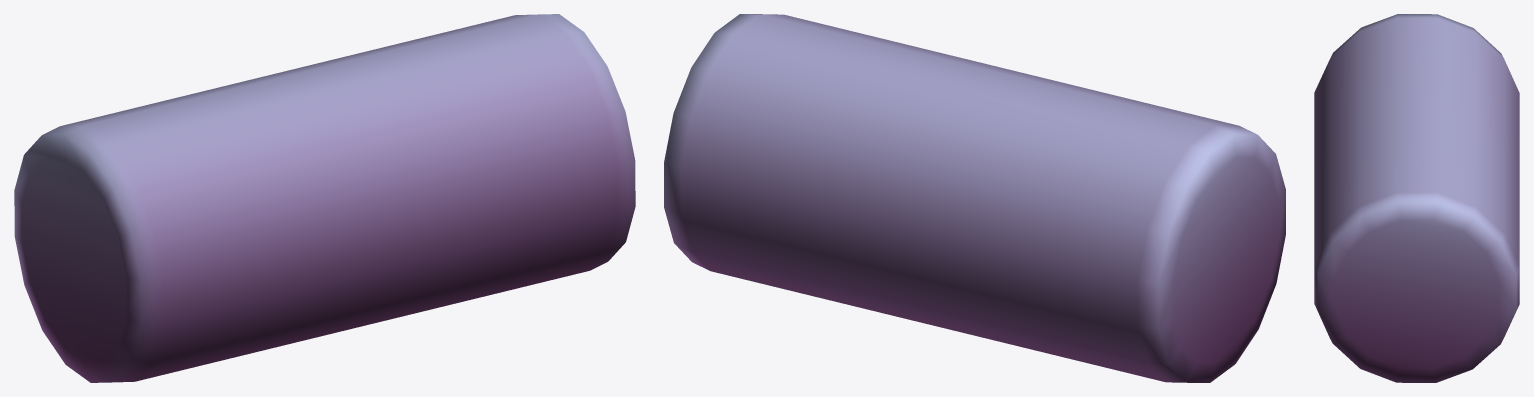
The model's file is Mini_Cilinder.fbx.
3 renders of one model, left to right at view 1: azimuth 30°, elevation 25°; view 2: azimuth 150°, elevation 25°; view 3: azimuth 270°, elevation 25°, orthographic. The views are drawn at different scales.
Visible parts, largest first — view 1: Cylinder.001; view 2: Cylinder.001; view 3: Cylinder.001.
Part boxes in pixels (x1,y1,x2,y2): Cylinder.001: (14, 14, 635, 382); Cylinder.001: (664, 14, 1285, 382); Cylinder.001: (1314, 14, 1519, 382).
Size of the model in its own units: 248 by 112 by 112.
